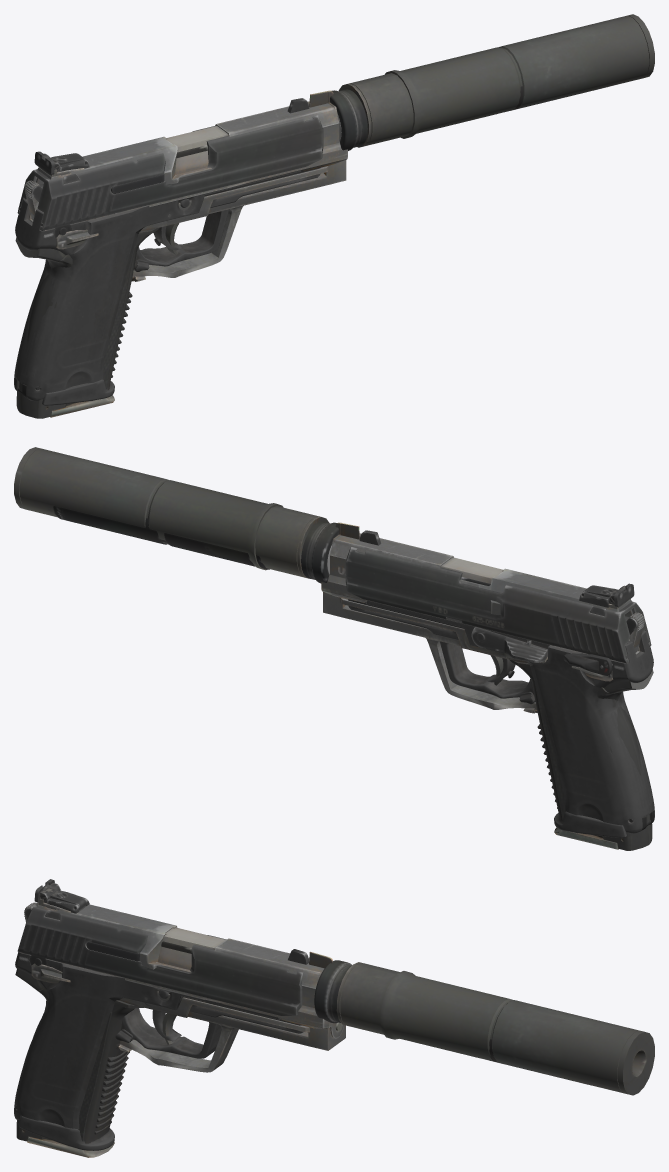
Rendered from weapon_usp_silencer.glb.
3 renders of one model, top to bottom at view 1: azimuth 30°, elevation 25°; view 2: azimuth 150°, elevation 25°; view 3: azimuth 330°, elevation 25°, orthographic.
Parts seen in each view (by area): view 1: weapons/models/usp_silencer/weapon_pist_usp_silencer.vmdl_c. (×2); view 2: weapons/models/usp_silencer/weapon_pist_usp_silencer.vmdl_c. (×2); view 3: weapons/models/usp_silencer/weapon_pist_usp_silencer.vmdl_c. (×2).
Part boxes in pixels (x1,y1,x2,y2): weapons/models/usp_silencer/weapon_pist_usp_silencer.vmdl_c. (×2): (14,14,654,418); weapons/models/usp_silencer/weapon_pist_usp_silencer.vmdl_c. (×2): (14,447,654,850); weapons/models/usp_silencer/weapon_pist_usp_silencer.vmdl_c. (×2): (14,879,654,1157).
Size of the model in its own units: 17.85 by 6.91 by 1.87.
2 materials, 2 textured.
